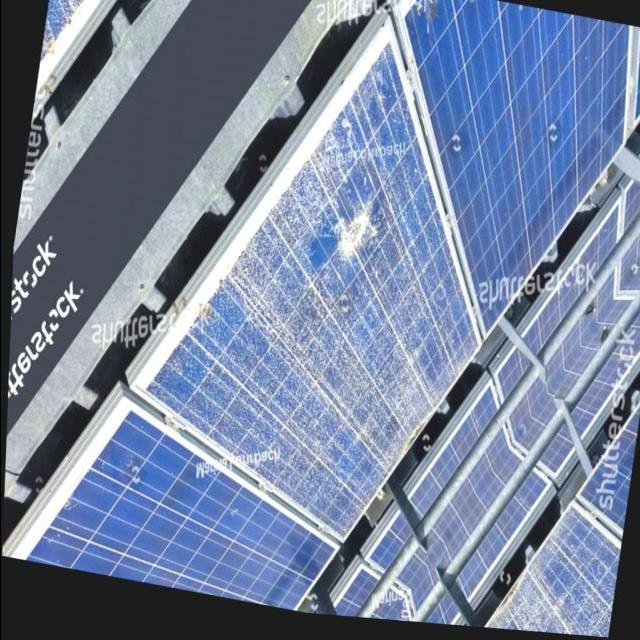cracked: (137, 19, 477, 525), (492, 503, 620, 638)
